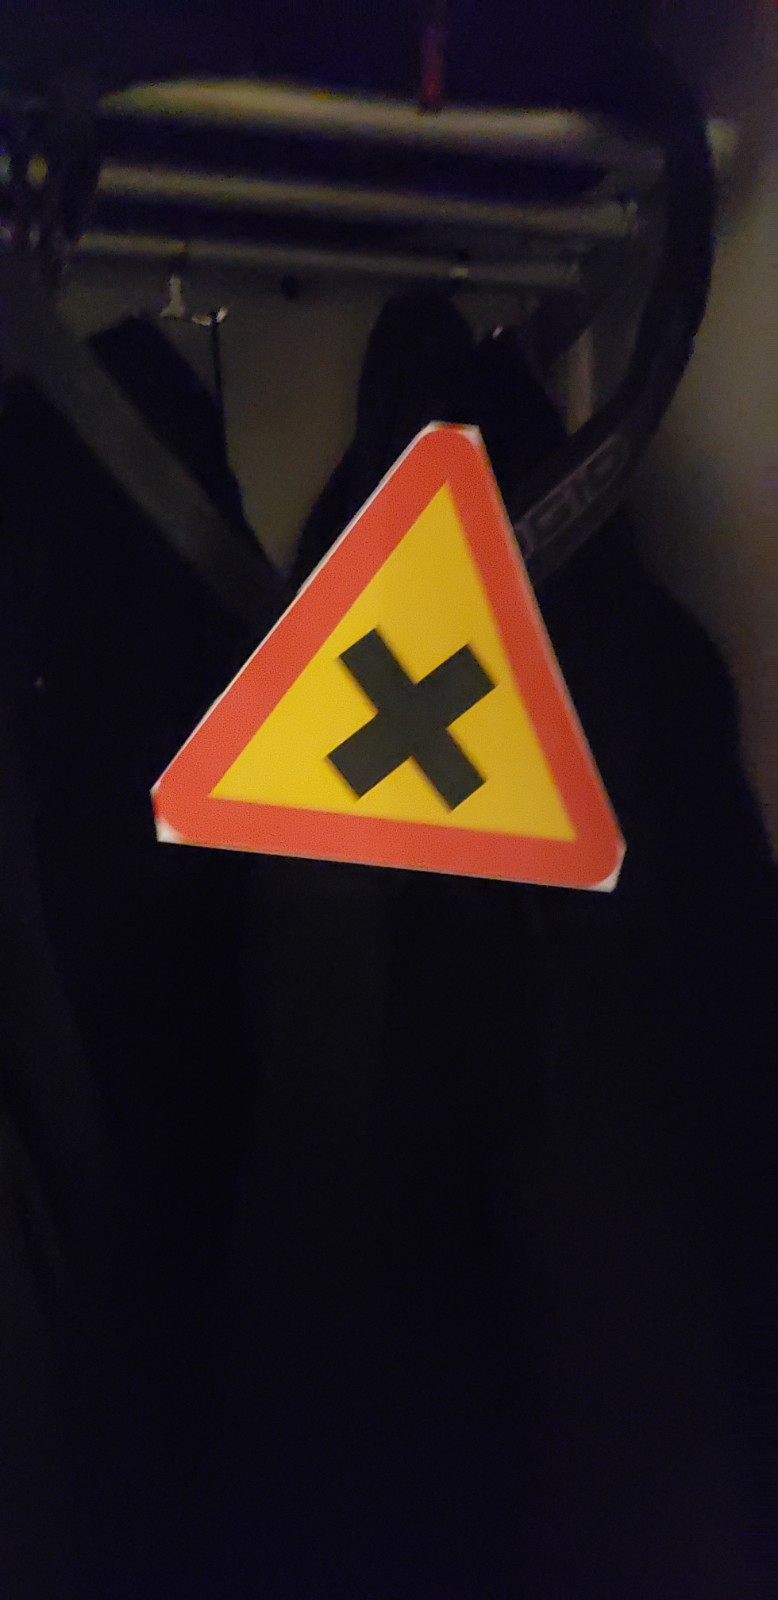junction: (145, 377, 651, 930)
